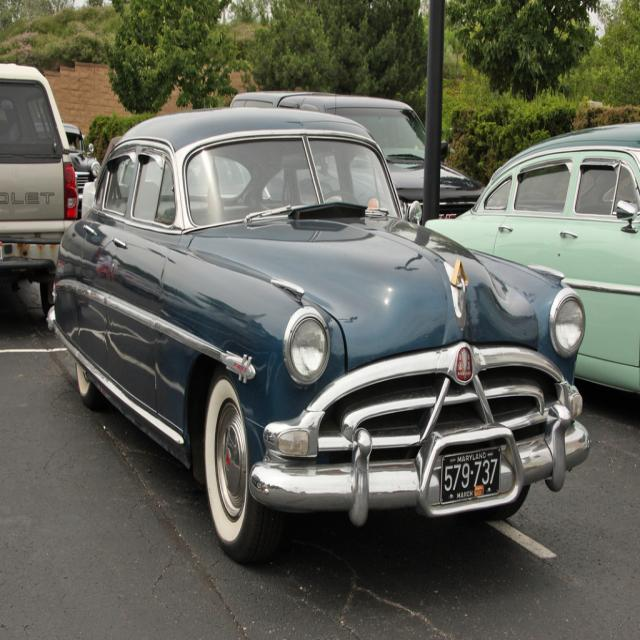car: (47, 97, 593, 556)
